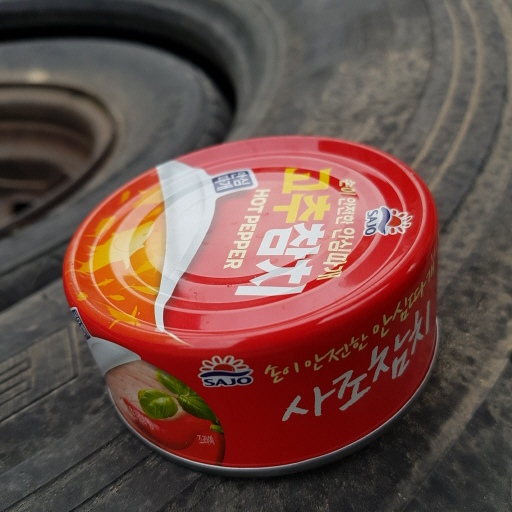Metal_1: (63, 135, 443, 476)
